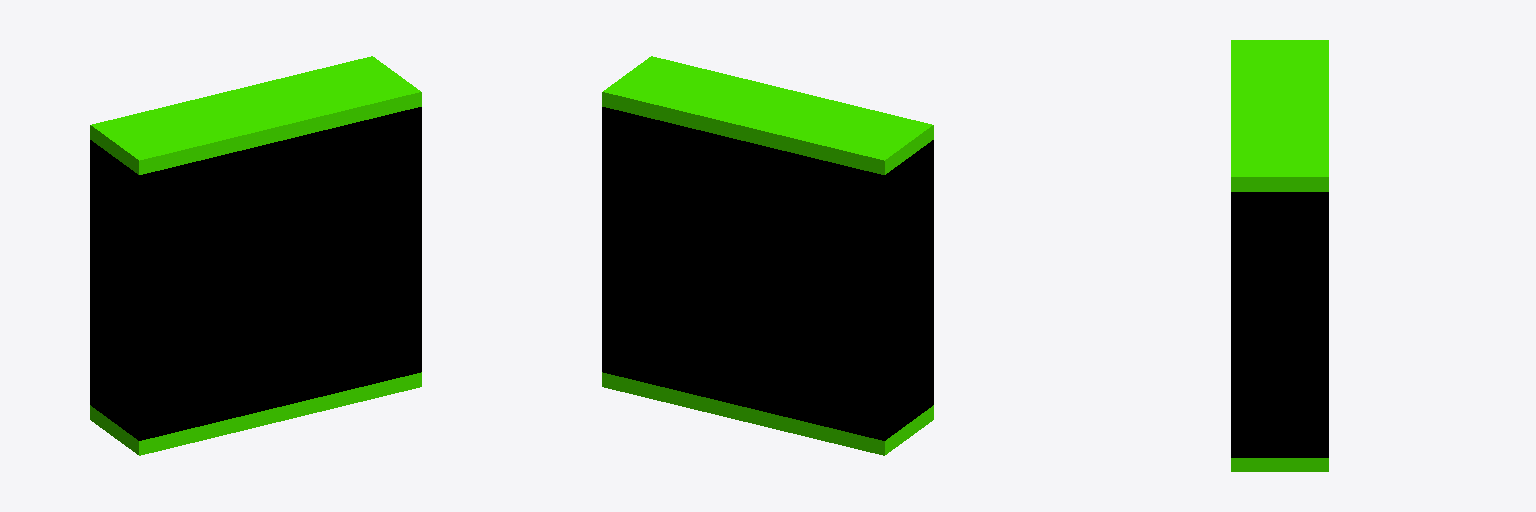
The model's file is pedal.obj.
The picture shows the model from 3 angles: view 1: azimuth 30°, elevation 25°; view 2: azimuth 150°, elevation 25°; view 3: azimuth 270°, elevation 25°; orthographic projection.
Parts seen in each view (by area): view 1: obj_0.017; view 2: obj_0.017; view 3: obj_0.017.
Boxes of the visible parts, x1=… form: obj_0.017: x1=90, y1=56, x2=421, y2=455; obj_0.017: x1=602, y1=56, x2=933, y2=455; obj_0.017: x1=1231, y1=40, x2=1328, y2=471.
Size of the model in its own units: 20 by 20 by 6.